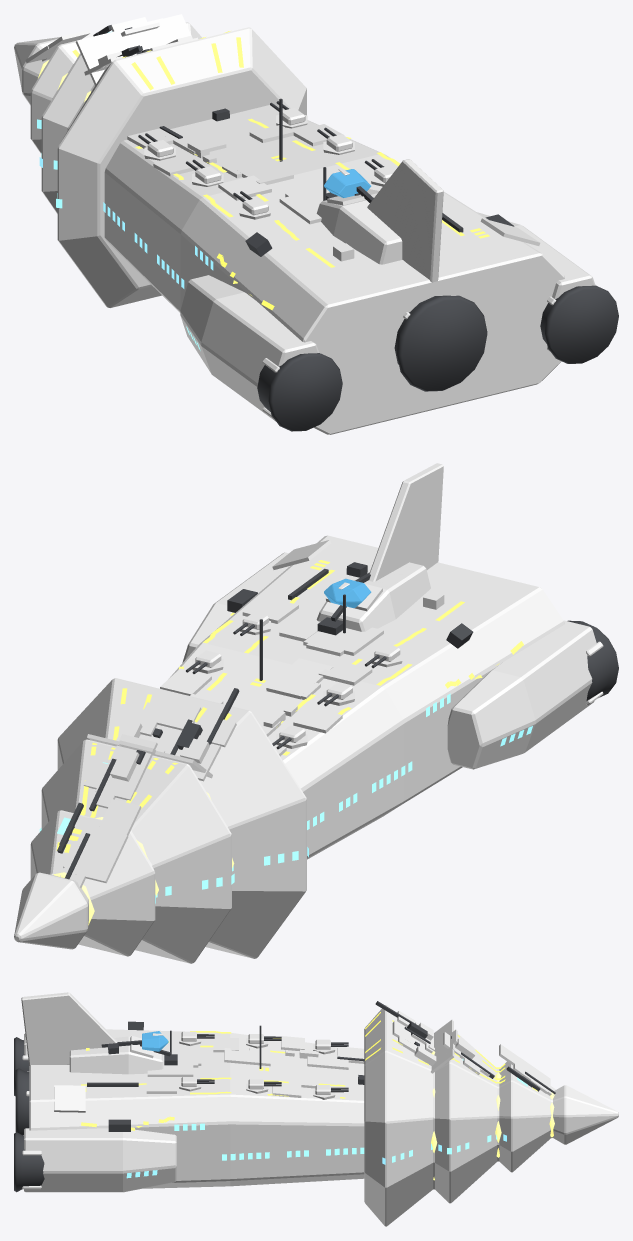
Rendered from taran.glb.
The picture shows the model from 3 angles, top to bottom: view 1: azimuth 30°, elevation 25°; view 2: azimuth 150°, elevation 25°; view 3: azimuth 270°, elevation 25°; orthographic projection. The views are drawn at different scales.
Visible parts, largest first — view 1: Корпус, Таран, Накладные_плиты, Двигательный_блок.001, Кожух_дюзы.002, Парус, Кожух_дюзы.001, Кожух_дюзы, Рубка, Разметка, Механика, Двигательный_блок (+2 smaller); view 2: Таран, Корпус, Накладные_плиты, Двигательный_блок.001, Парус, Механика, Рубка, Разметка, Двигательный_блок, Кожух_дюзы.001, Решётки, Кабина; view 3: Корпус, Таран, Накладные_плиты, Двигательный_блок, Парус, Механика, Рубка, Разметка, Кожух_дюзы, Решётки, Кожух_дюзы.002, Кожух_дюзы.001 (+1 smaller).
Boxes of the visible parts, <box> form: Корпус: <box>104,105,564,434</box>; Таран: <box>14,22,306,307</box>; Накладные_плиты: <box>25,14,540,261</box>; Двигательный_блок.001: <box>180,275,319,421</box>; Кожух_дюзы.002: <box>394,295,487,391</box>; Парус: <box>367,159,443,282</box>; Кожух_дюзы.001: <box>257,353,342,431</box>; Кожух_дюзы: <box>540,285,618,363</box>; Рубка: <box>316,200,402,264</box>; Разметка: <box>72,31,489,309</box>; Механика: <box>93,25,514,256</box>; Двигательный_блок: <box>477,212,595,298</box>; Таран: <box>14,678,306,963</box>; Корпус: <box>169,535,564,859</box>; Накладные_плиты: <box>60,540,444,888</box>; Двигательный_блок.001: <box>447,620,596,769</box>; Парус: <box>368,463,443,581</box>; Механика: <box>57,562,473,879</box>; Рубка: <box>316,562,430,631</box>; Разметка: <box>56,560,523,852</box>; Двигательный_блок: <box>182,552,289,662</box>; Кожух_дюзы.001: <box>567,620,618,700</box>; Решётки: <box>39,693,532,903</box>; Кабина: <box>324,578,371,607</box>; Корпус: <box>29,1029,364,1188</box>; Таран: <box>364,1005,618,1226</box>; Накладные_плиты: <box>54,1011,555,1112</box>; Двигательный_блок: <box>24,1128,176,1192</box>; Парус: <box>21,992,117,1065</box>; Механика: <box>87,1001,555,1131</box>; Рубка: <box>69,1036,163,1074</box>; Разметка: <box>81,1012,537,1130</box>; Кожух_дюзы: <box>14,1132,44,1192</box>; Решётки: <box>126,1058,527,1178</box>; Кожух_дюзы.002: <box>15,1068,29,1135</box>; Кожух_дюзы.001: <box>14,1037,29,1096</box>.
Bounding box in the file's own units: 1.06 × 0.8571 × 2.26.
